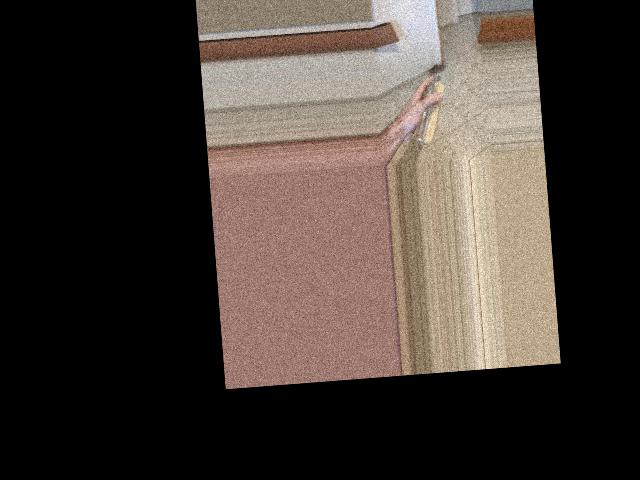cheese: (395, 70, 456, 140)
